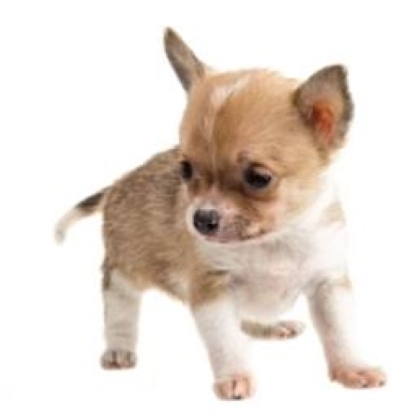chihuahua: (55, 26, 390, 401)
